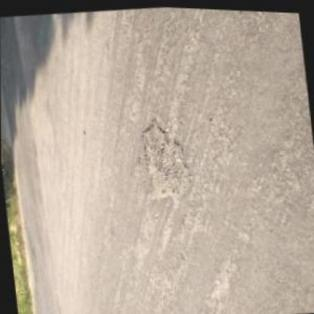Hueco: (136, 110, 194, 209)
